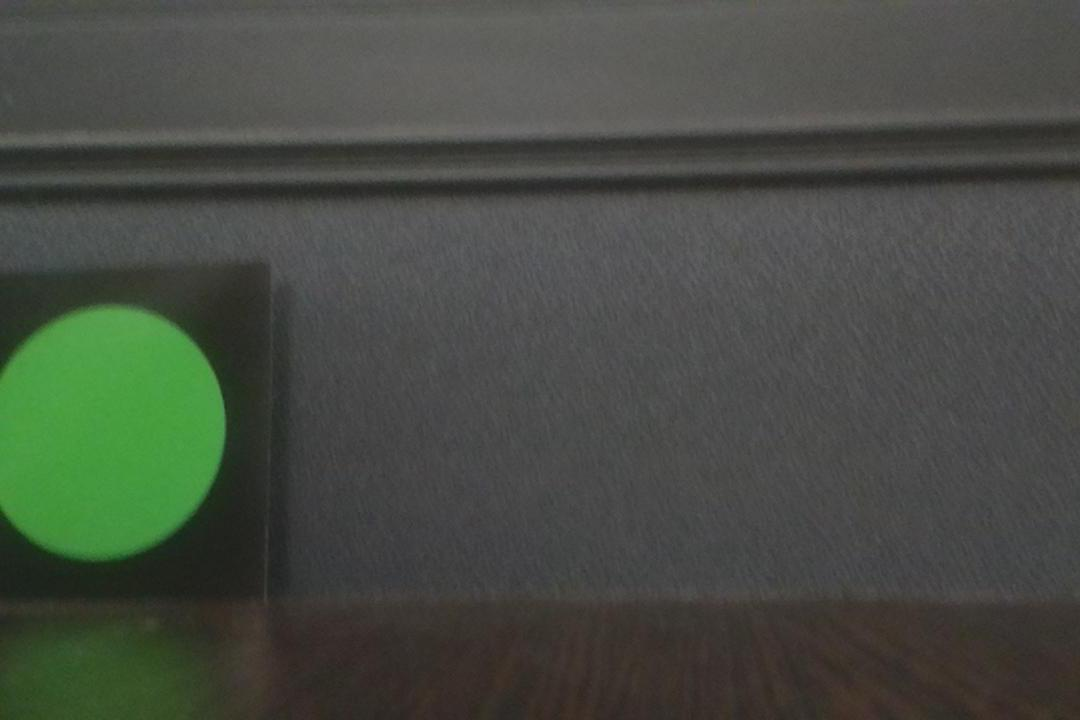go: (1, 261, 265, 593)
